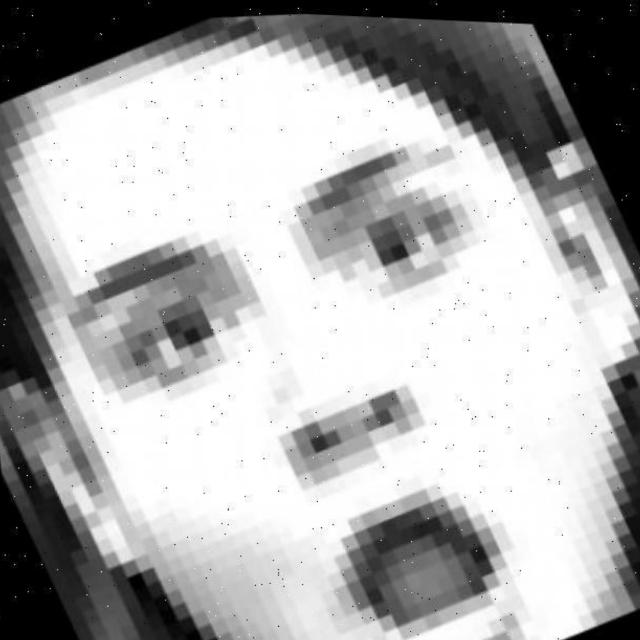Surprised: (20, 70, 640, 640)
